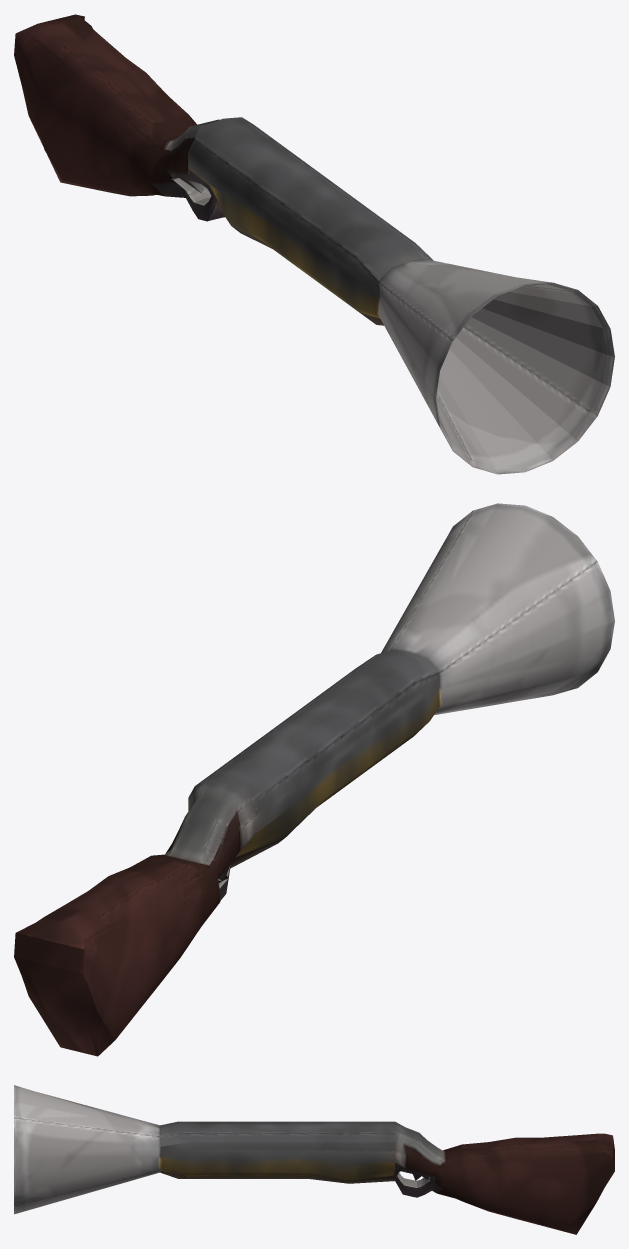
File: Rocket.Luncher.fbx
3 views of the same model, one above another, from view 1: azimuth 30°, elevation 25°; view 2: azimuth 150°, elevation 25°; view 3: azimuth 270°, elevation 25° (orthographic). The views are drawn at different scales.
Visible parts, largest first — view 1: pCylinder2; view 2: pCylinder2; view 3: pCylinder2.
Boxes of the visible parts, left/top/right/bottom form: pCylinder2: left=14, top=14, right=614, bottom=474; pCylinder2: left=14, top=503, right=614, bottom=1056; pCylinder2: left=14, top=1085, right=614, bottom=1234.
Size of the model in its own units: 63.25 by 74.11 by 291.
Materials: 1 (1 with a texture image).
